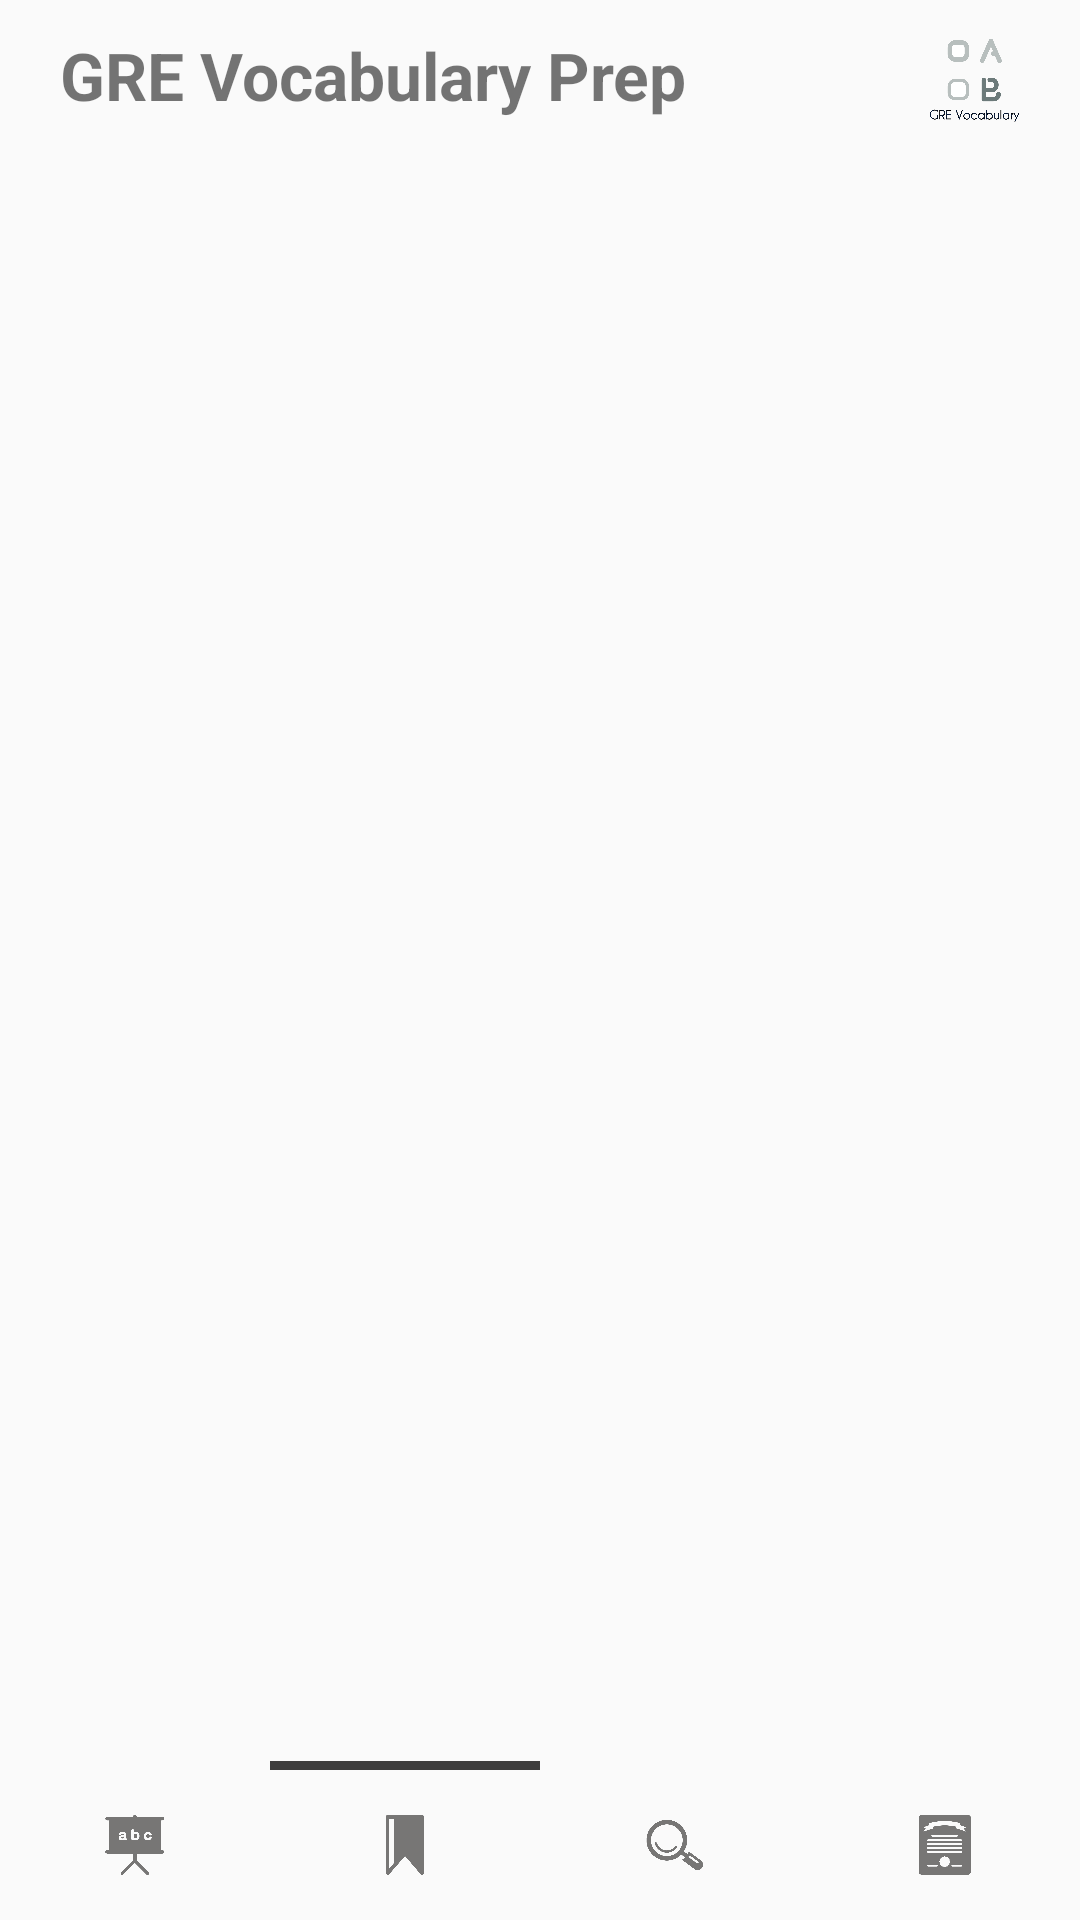

Point at icon controls on the screen. Image size 1080 x 1920, points as [x,y].
bookmarks: [405,1845]
search: [674,1845]
words: [134,1845]
